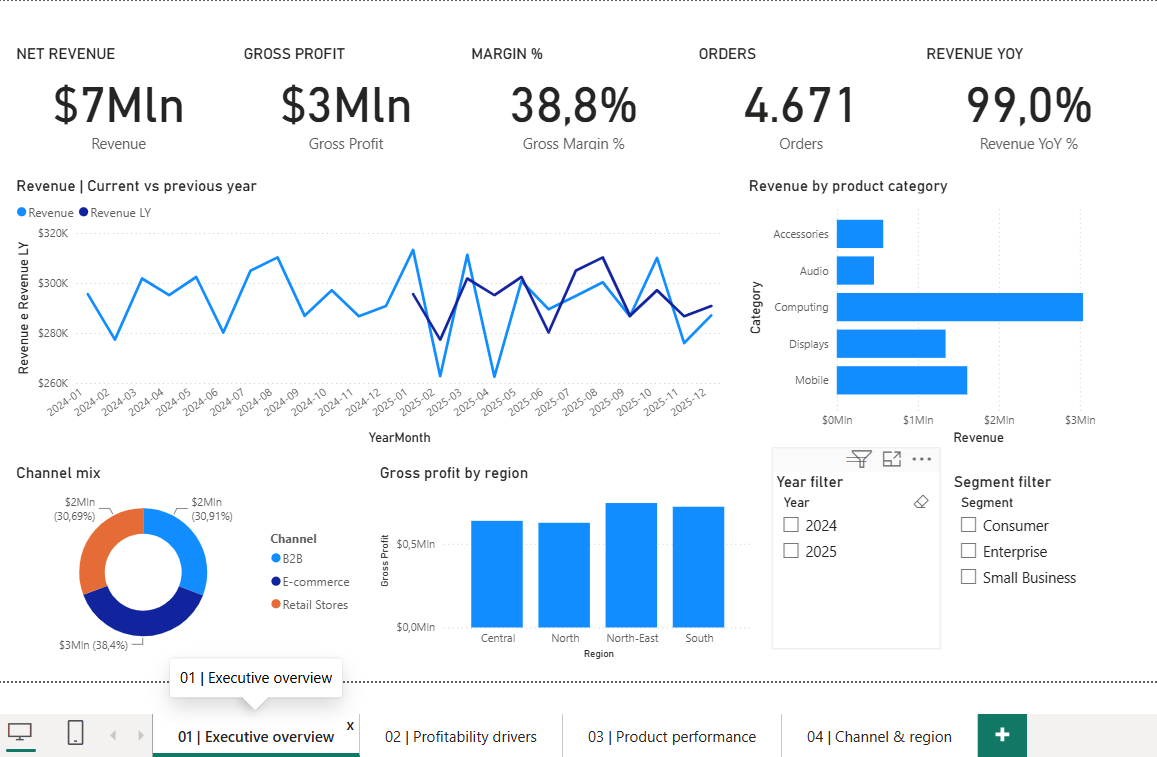

This screenshot's page, from the dashboard's own definition file:
{"tool":"powerbi","page":{"name":"01 | Executive overview","canvas":[1280,720],"ordinal":0},"visuals":[{"type":"card","title":"NET REVENUE","fields":{"Values":["Sales.Revenue"]},"box":[20,20,235,120],"z":0},{"type":"card","title":"GROSS PROFIT","fields":{"Values":["Sales.Gross Profit"]},"box":[270,20,235,120],"z":0},{"type":"card","title":"MARGIN %","fields":{"Values":["Sales.Gross Margin %"]},"box":[520,20,235,120],"z":0},{"type":"card","title":"ORDERS","fields":{"Values":["Sales.Orders"]},"box":[770,20,235,120],"z":0},{"type":"card","title":"REVENUE YOY","fields":{"Values":["Sales.Revenue YoY %"]},"box":[1020,20,235,120],"z":0},{"type":"lineChart","title":"Revenue | Current vs previous year","fields":{"Category":["Dates.YearMonth"],"Y":["Sales.Revenue","Sales.Revenue LY"]},"box":[20,165,785,300],"z":0},{"type":"clusteredBarChart","title":"Revenue by product category","fields":{"Category":["Products.Category"],"Y":["Sales.Revenue"]},"box":[825,165,435,300],"z":0},{"type":"donutChart","title":"Channel mix","fields":{"Category":["Channels.Channel"],"Y":["Sales.Revenue"]},"box":[20,480,385,220],"z":0},{"type":"clusteredColumnChart","title":"Gross profit by region","fields":{"Category":["Regions.Region"],"Y":["Sales.Gross Profit"]},"box":[420,480,420,220],"z":0},{"type":"slicer","title":"Year filter","fields":{"Values":["Dates.Year"]},"box":[855,490,185,195],"z":0},{"type":"slicer","title":"Segment filter","fields":{"Values":["Segments.Segment"]},"box":[1050,490,210,195],"z":0}]}

Visuals, with their boxes on the page's 1280x720 design canvas (x1, y1, x2, y2). These are canvas units, not pixel positions in the 1157x757 screenshot, which may show the page scaled, cropped or inside an application window:
"NET REVENUE" card: x1=20 y1=20 x2=255 y2=140
"GROSS PROFIT" card: x1=270 y1=20 x2=505 y2=140
"MARGIN %" card: x1=520 y1=20 x2=755 y2=140
"ORDERS" card: x1=770 y1=20 x2=1005 y2=140
"REVENUE YOY" card: x1=1020 y1=20 x2=1255 y2=140
"Revenue | Current vs previous year" lineChart: x1=20 y1=165 x2=805 y2=465
"Revenue by product category" clusteredBarChart: x1=825 y1=165 x2=1260 y2=465
"Channel mix" donutChart: x1=20 y1=480 x2=405 y2=700
"Gross profit by region" clusteredColumnChart: x1=420 y1=480 x2=840 y2=700
"Year filter" slicer: x1=855 y1=490 x2=1040 y2=685
"Segment filter" slicer: x1=1050 y1=490 x2=1260 y2=685
